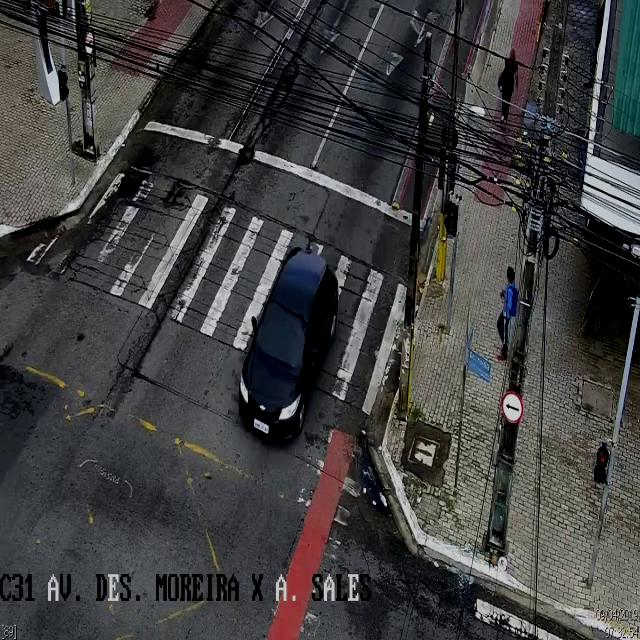Car: (239, 245, 337, 439)
